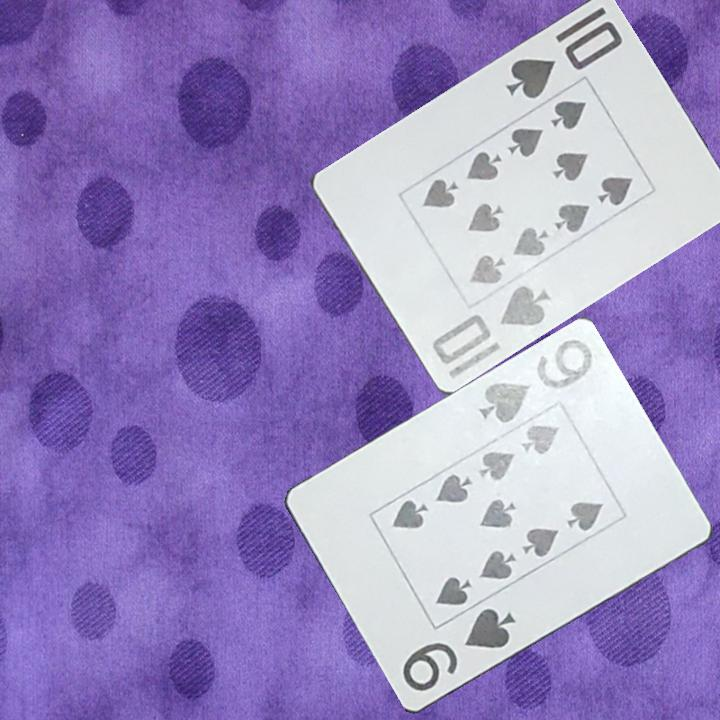9s: (475, 336, 596, 431), (398, 605, 519, 695)
Ts: (501, 3, 626, 103), (428, 282, 555, 369)
